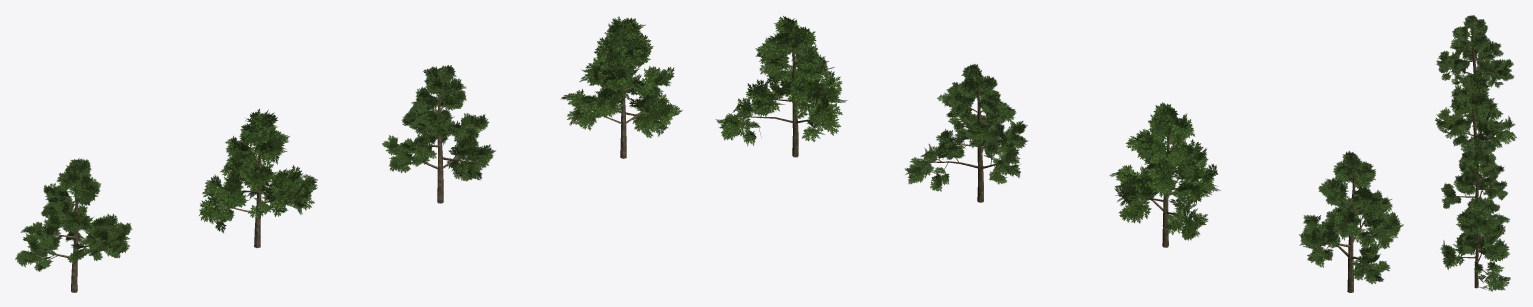
File: tree_oak.glb
3 views of the same model, side by side, from view 1: azimuth 30°, elevation 25°; view 2: azimuth 150°, elevation 25°; view 3: azimuth 270°, elevation 25° (orthographic). The views are drawn at different scales.
Parts seen in each view (by area): view 1: v1_lo_leaf, v0_lo_leaf, v1_hi_leaf, v0_hi_leaf, v1_hi_bark, v0_hi_bark, v1_lo_bark, v0_lo_bark; view 2: v0_lo_leaf, v1_lo_leaf, v0_hi_leaf, v1_hi_leaf, v1_hi_bark, v0_hi_bark, v1_lo_bark, v0_lo_bark; view 3: v0_lo_leaf, v1_lo_leaf, v0_hi_leaf, v1_hi_leaf, v1_lo_bark, v1_hi_bark, v0_hi_bark, v0_lo_bark.
Part boxes in pixels (x1,y1,x2,y2): v1_lo_leaf: [561, 16, 682, 138]; v0_lo_leaf: [199, 108, 317, 233]; v1_hi_leaf: [382, 65, 495, 181]; v0_hi_leaf: [15, 158, 132, 271]; v1_hi_bark: [395, 68, 478, 203]; v0_hi_bark: [30, 161, 118, 292]; v1_lo_bark: [598, 23, 659, 158]; v0_lo_bark: [215, 117, 282, 248]; v0_lo_leaf: [1109, 102, 1220, 240]; v1_lo_leaf: [715, 16, 847, 146]; v0_hi_leaf: [1299, 151, 1403, 284]; v1_hi_leaf: [904, 64, 1028, 191]; v1_hi_bark: [913, 69, 1010, 202]; v0_hi_bark: [1314, 156, 1386, 292]; v1_lo_bark: [733, 23, 826, 157]; v0_lo_bark: [1134, 111, 1199, 247]; v0_lo_leaf: [1435, 72, 1516, 151]; v1_lo_leaf: [1440, 196, 1510, 291]; v0_hi_leaf: [1436, 15, 1514, 96]; v1_hi_leaf: [1441, 137, 1510, 230]; v1_lo_bark: [1457, 211, 1493, 288]; v1_hi_bark: [1448, 137, 1497, 217]; v0_hi_bark: [1446, 15, 1505, 81]; v0_lo_bark: [1447, 92, 1499, 158].
Size of the model in its own units: 72.75 by 14.57 by 11.88.
Materials: 2 (2 with a texture image).
